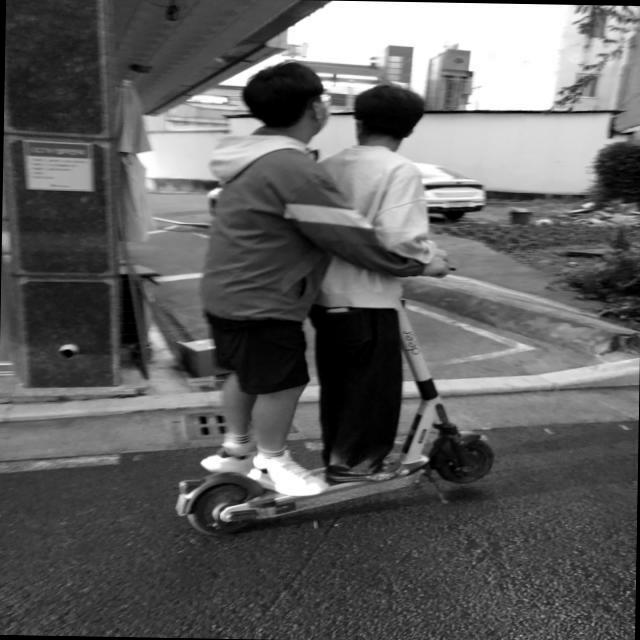bare_head: (241, 65, 334, 137), (348, 77, 422, 148)
human: (193, 63, 341, 498), (297, 76, 413, 482)
kickboard: (169, 419, 498, 542)
